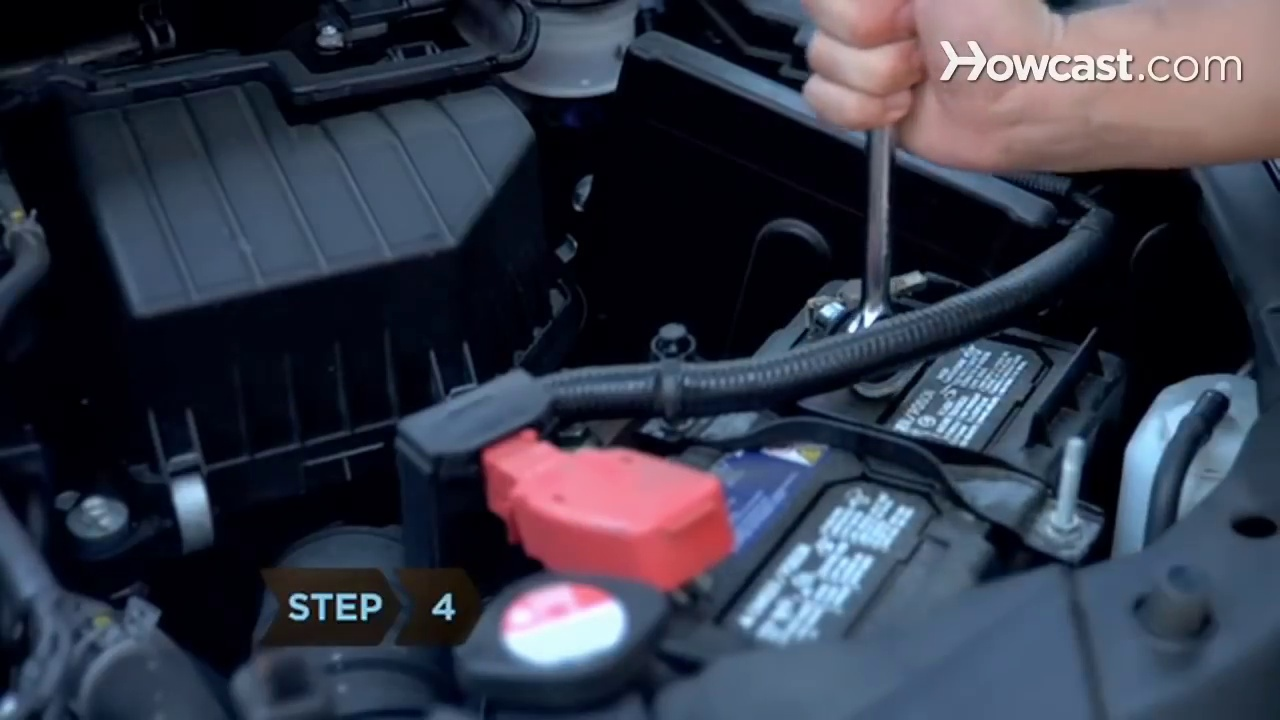battery: (564, 255, 1119, 676)
neg_touched: (789, 1, 958, 341)
pos_connected: (505, 424, 734, 607)
